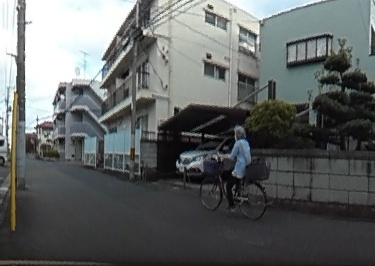person: (222, 125, 251, 207)
